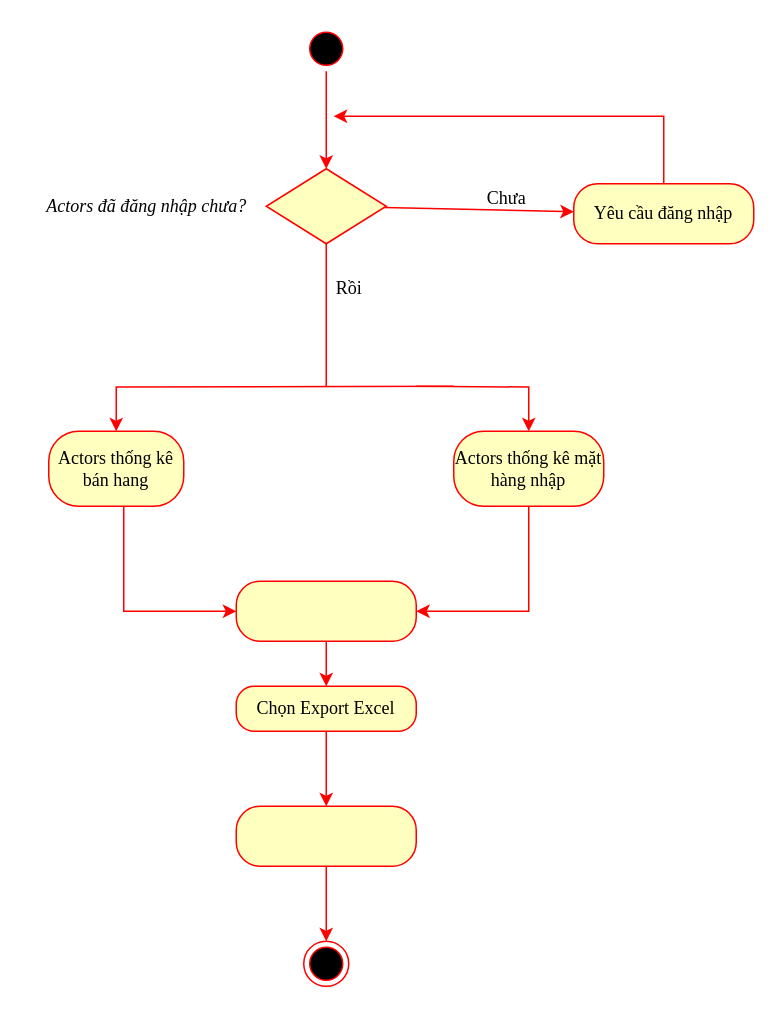
Image size: 780x1013. Some labels were removed from this diagram. Each missing label, with the centre of its shape:
"Lưu dữ liệu thống kê vào Excel và tải xuống" belongs at (x=325, y=835).
"Truy vấn dữ liệu trong cơ sở dữ liệu" belongs at (x=325, y=610).
